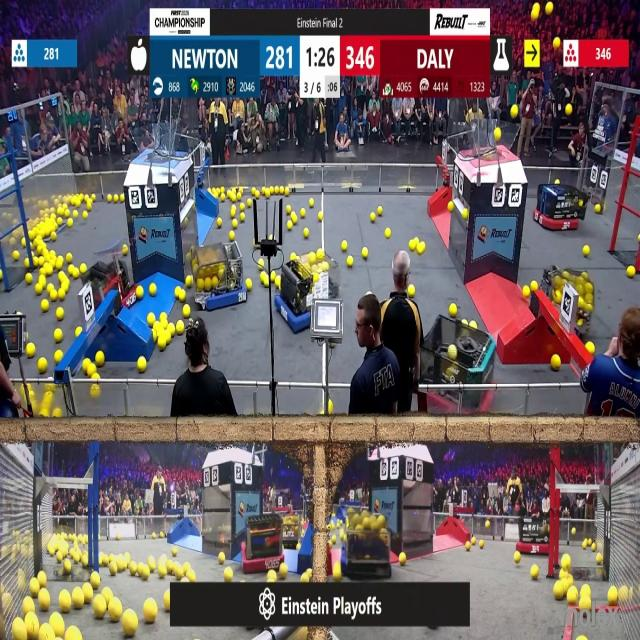ball_airborne: (532, 4, 540, 20), (512, 105, 520, 120), (494, 129, 501, 142), (545, 2, 552, 15), (554, 38, 562, 48), (565, 105, 572, 116)
ball_ground: (124, 614, 139, 638), (54, 614, 68, 638), (144, 601, 157, 623), (109, 601, 121, 622), (95, 599, 107, 619), (60, 592, 72, 612), (72, 591, 84, 610), (38, 592, 49, 612), (580, 592, 592, 610), (566, 589, 578, 606), (607, 589, 617, 607), (552, 354, 562, 370), (85, 587, 95, 603), (25, 598, 35, 613), (334, 564, 343, 580), (555, 584, 564, 600), (175, 566, 185, 579), (68, 630, 81, 640), (138, 357, 147, 371), (92, 572, 101, 586), (38, 572, 47, 586), (165, 593, 172, 611), (140, 566, 149, 580), (97, 351, 105, 366), (38, 357, 46, 372), (223, 568, 232, 581), (159, 565, 168, 578), (450, 304, 458, 318), (55, 328, 63, 342), (28, 344, 36, 358), (279, 564, 287, 578), (562, 555, 570, 569), (64, 560, 72, 574), (268, 570, 278, 581), (176, 321, 184, 334), (160, 337, 168, 350), (130, 562, 137, 576), (587, 343, 595, 355), (66, 252, 74, 264), (59, 288, 67, 300), (176, 288, 184, 300), (187, 570, 195, 582), (168, 324, 176, 336), (531, 566, 538, 579), (148, 558, 155, 571), (54, 410, 63, 420), (523, 286, 531, 297), (26, 274, 34, 285), (530, 281, 538, 292), (88, 363, 96, 374), (109, 563, 117, 574), (100, 556, 108, 567), (409, 285, 416, 297), (58, 308, 65, 320), (182, 306, 189, 318), (628, 267, 635, 279), (218, 553, 225, 565), (398, 554, 405, 566), (185, 276, 192, 288), (148, 313, 154, 327), (137, 286, 144, 298), (49, 289, 56, 301), (342, 238, 349, 250), (41, 302, 49, 312), (302, 572, 310, 582), (38, 276, 46, 286), (104, 588, 112, 598), (56, 351, 63, 362), (275, 277, 282, 288), (259, 273, 266, 284), (117, 560, 124, 571), (347, 256, 354, 266), (515, 553, 522, 563), (121, 245, 128, 255), (35, 284, 42, 294), (410, 241, 417, 251), (83, 358, 90, 368), (227, 232, 234, 242), (596, 555, 603, 565), (264, 277, 271, 287), (290, 215, 297, 225), (44, 266, 51, 276), (149, 284, 155, 295), (418, 243, 424, 254), (82, 557, 88, 568), (462, 209, 468, 220), (12, 251, 19, 260), (584, 246, 590, 256), (362, 248, 368, 258), (80, 265, 86, 275), (216, 217, 222, 227), (369, 212, 375, 222), (246, 280, 252, 290), (271, 273, 277, 283), (73, 270, 79, 280), (58, 261, 64, 271), (68, 266, 74, 276), (34, 256, 40, 266), (88, 202, 94, 212), (284, 206, 291, 214), (449, 202, 454, 213), (75, 327, 81, 336), (385, 230, 391, 239), (596, 205, 602, 214), (68, 218, 74, 227), (233, 219, 239, 228), (58, 217, 64, 226), (318, 212, 324, 221), (60, 272, 66, 281), (328, 400, 332, 413), (305, 230, 310, 240), (173, 544, 178, 554), (26, 258, 31, 268), (232, 208, 237, 218), (48, 250, 55, 257), (161, 313, 167, 321), (240, 213, 246, 221), (286, 221, 292, 229), (50, 233, 56, 241), (284, 188, 290, 196), (254, 190, 260, 198), (65, 209, 71, 217), (19, 239, 25, 247), (162, 320, 168, 328), (113, 193, 118, 202), (560, 570, 565, 579), (331, 535, 336, 544), (82, 212, 88, 219), (484, 521, 490, 528), (46, 284, 52, 291), (465, 541, 470, 549), (299, 209, 304, 217), (378, 207, 383, 215), (108, 194, 113, 202), (240, 204, 245, 212), (73, 210, 78, 218), (290, 252, 295, 260), (571, 528, 576, 536), (184, 562, 189, 570), (0, 272, 4, 281), (258, 258, 263, 265), (308, 201, 312, 209), (119, 194, 123, 202), (248, 200, 252, 208), (481, 539, 485, 547), (577, 636, 585, 640), (267, 190, 271, 198), (93, 193, 97, 200), (471, 537, 475, 544), (220, 193, 224, 200), (592, 543, 596, 550), (636, 236, 640, 243), (119, 537, 122, 544), (152, 533, 155, 539)
goal: (466, 124, 521, 160), (130, 129, 188, 160)
robot_blue: (274, 252, 337, 333), (333, 508, 395, 582), (191, 246, 246, 310), (276, 511, 306, 559)
robot_red: (424, 317, 498, 414), (538, 267, 595, 336), (534, 181, 584, 232), (242, 514, 283, 573), (515, 515, 551, 555)
